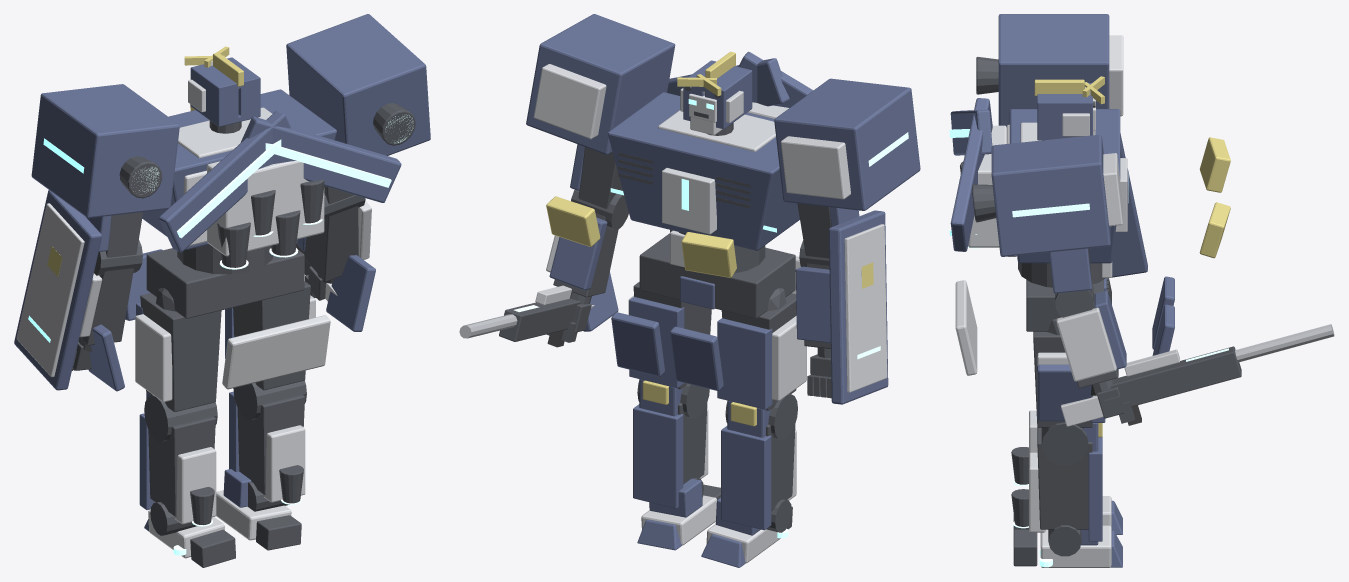
File: mech_g3.glb
3 renders of one model, left to right at view 1: azimuth 30°, elevation 25°; view 2: azimuth 150°, elevation 25°; view 3: azimuth 270°, elevation 25°, orthographic. The views are drawn at different scales.
Visible parts, largest first — view 1: binder, binder.001, pelvis, shield_rim, skirt_rear, thigh, wing, wing.001, backpack, shield, chest, shin (+40 smaller); view 2: chest, binder, binder.001, shield_rim, pelvis, shin_plate, shin_plate.001, thigh_plate, shield, binder_inner.001, binder_inner, cockpit (+35 smaller); view 3: binder.001, binder, rifle_body, shin.001, forearm_side.001, chest, wing, skirt_side.001, shield, skull, upper_arm_plate.001, knee.001 (+30 smaller).
Part boxes in pixels (left/top/right/bottom): binder: left=31, top=84, right=179, bottom=218; binder.001: left=286, top=14, right=430, bottom=155; pelvis: left=146, top=248, right=304, bottom=318; shield_rim: left=16, top=203, right=84, bottom=377; skirt_rear: left=222, top=315, right=330, bottom=389; thigh: left=140, top=293, right=221, bottom=411; wing: left=240, top=116, right=401, bottom=202; wing.001: left=159, top=110, right=290, bottom=252; backpack: left=207, top=161, right=324, bottom=256; shield: left=14, top=190, right=101, bottom=390; chest: left=142, top=89, right=336, bottom=249; shin: left=148, top=416, right=215, bottom=516; chest: left=608, top=92, right=799, bottom=250; binder: left=774, top=78, right=920, bottom=210; binder.001: left=526, top=14, right=675, bottom=154; shield_rim: left=844, top=224, right=887, bottom=392; pelvis: left=639, top=233, right=795, bottom=318; shin_plate: left=721, top=426, right=771, bottom=530; shin_plate.001: left=633, top=404, right=683, bottom=508; thigh_plate: left=717, top=318, right=772, bottom=409; shield: left=828, top=210, right=888, bottom=404; binder_inner.001: left=533, top=64, right=606, bottom=139; binder_inner: left=781, top=136, right=850, bottom=199; cockpit: left=662, top=168, right=716, bottom=234; binder.001: left=991, top=134, right=1110, bottom=256; binder: left=998, top=14, right=1109, bottom=127; rifle_body: left=1110, top=346, right=1241, bottom=406; shin.001: left=1037, top=427, right=1092, bottom=529; forearm_side.001: left=1056, top=307, right=1116, bottom=381; chest: left=1009, top=109, right=1120, bottom=263; wing: left=950, top=98, right=992, bottom=251; skirt_side.001: left=1037, top=364, right=1092, bottom=421; shield: left=1112, top=133, right=1147, bottom=277; skull: left=1037, top=83, right=1092, bottom=140; upper_arm_plate.001: left=1049, top=248, right=1091, bottom=293; knee.001: left=1041, top=422, right=1088, bottom=465.
Size of the model in its own units: 12.57 by 16.57 by 12.5.
